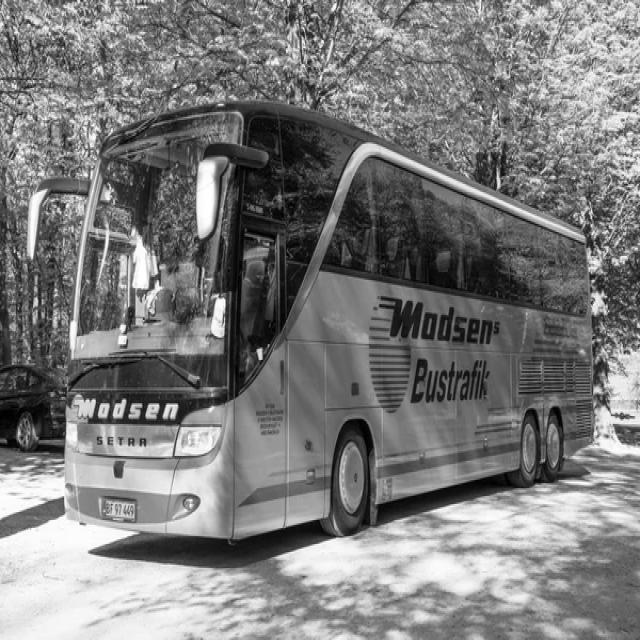Bus: (28, 102, 593, 540)
Car: (0, 366, 64, 452)
